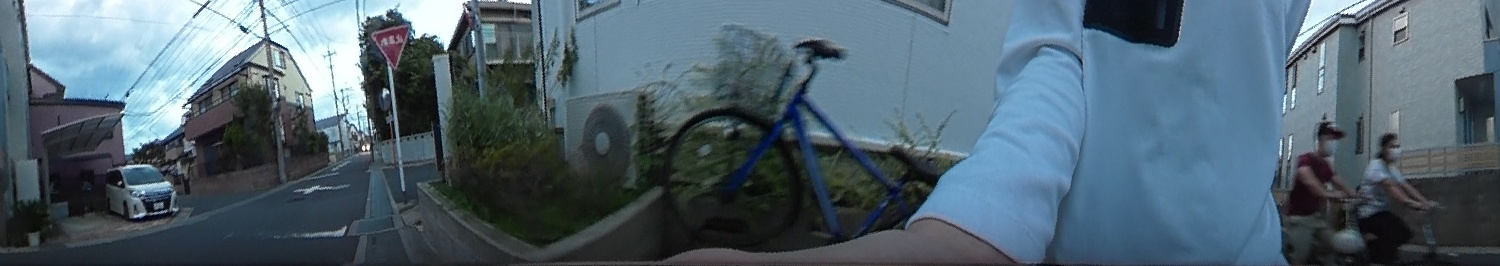person: (1288, 116, 1343, 266), (1354, 125, 1407, 240)
